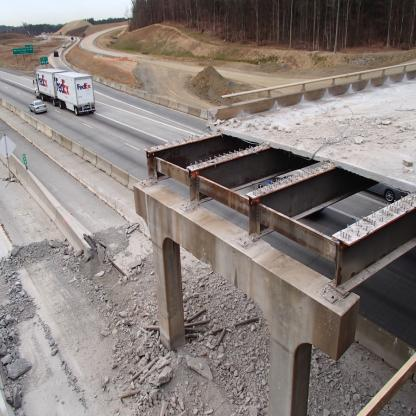Car: (30, 100, 48, 115), (55, 52, 60, 58), (71, 40, 75, 44), (63, 45, 67, 48), (71, 36, 75, 39)
